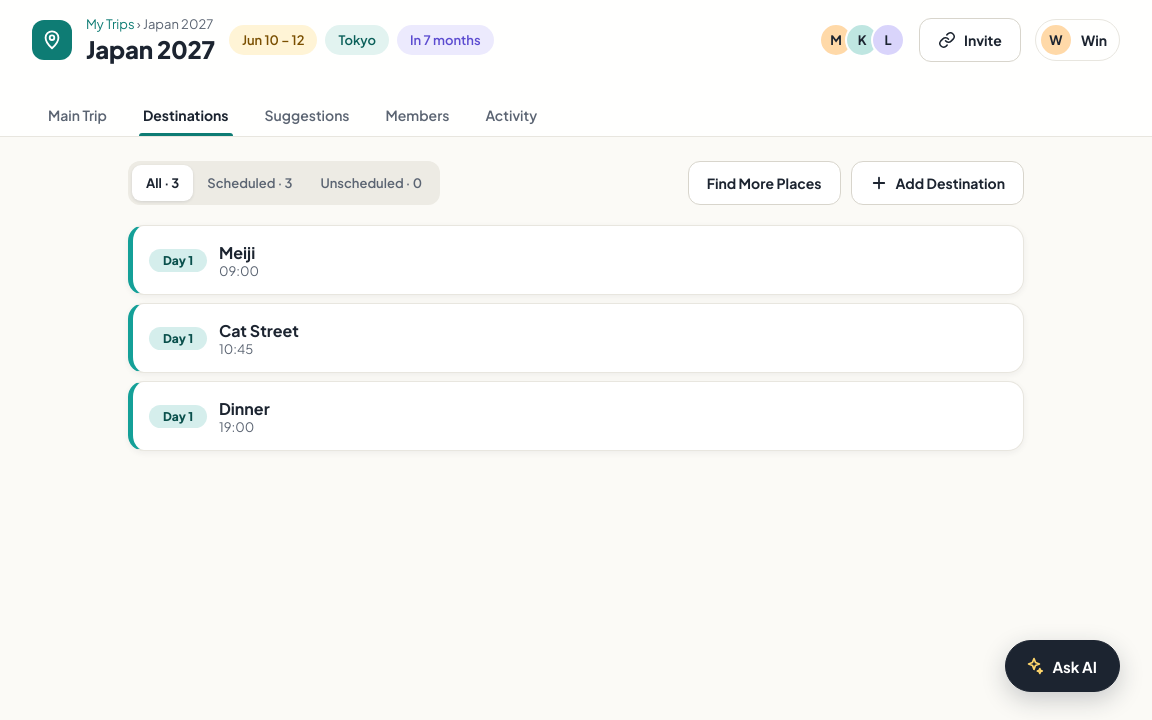
it: More like this from a place runs straight away; errors show
The width and height of the screenshot is (1152, 720).
Click the button "Cat Street 10:45 Day 1": (259, 330) [149,316,1007,360]
(page scrolled)
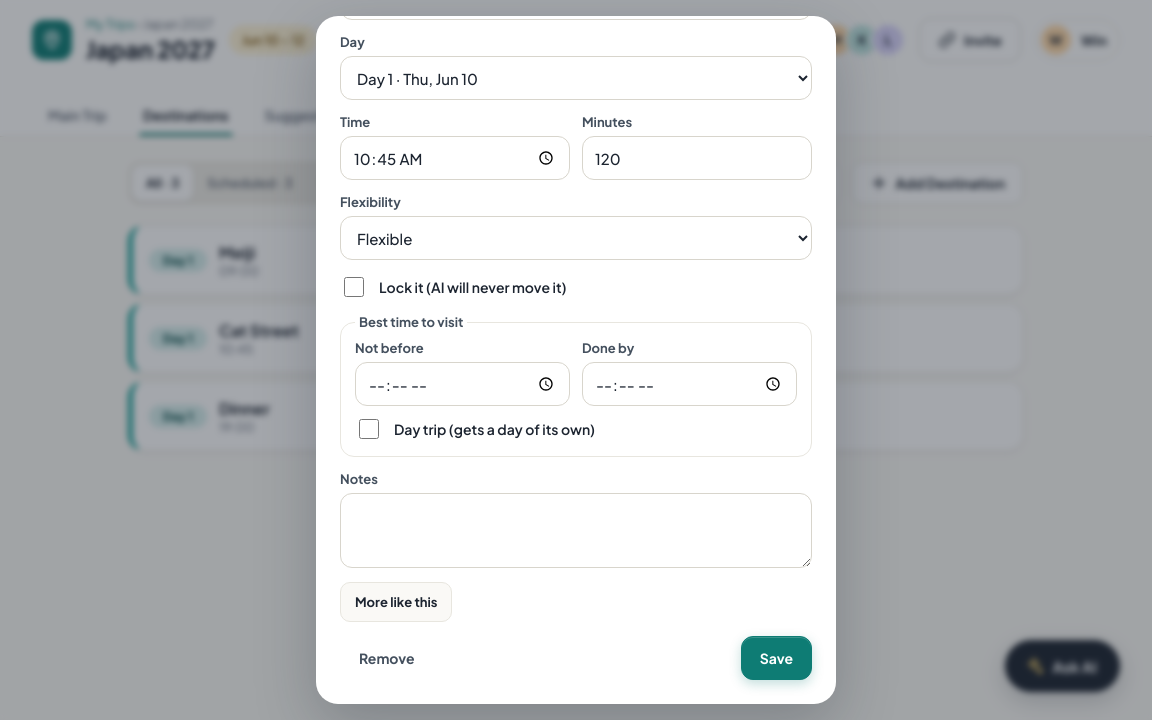
Click the button "More like this": (396, 602) [340,582,452,622]
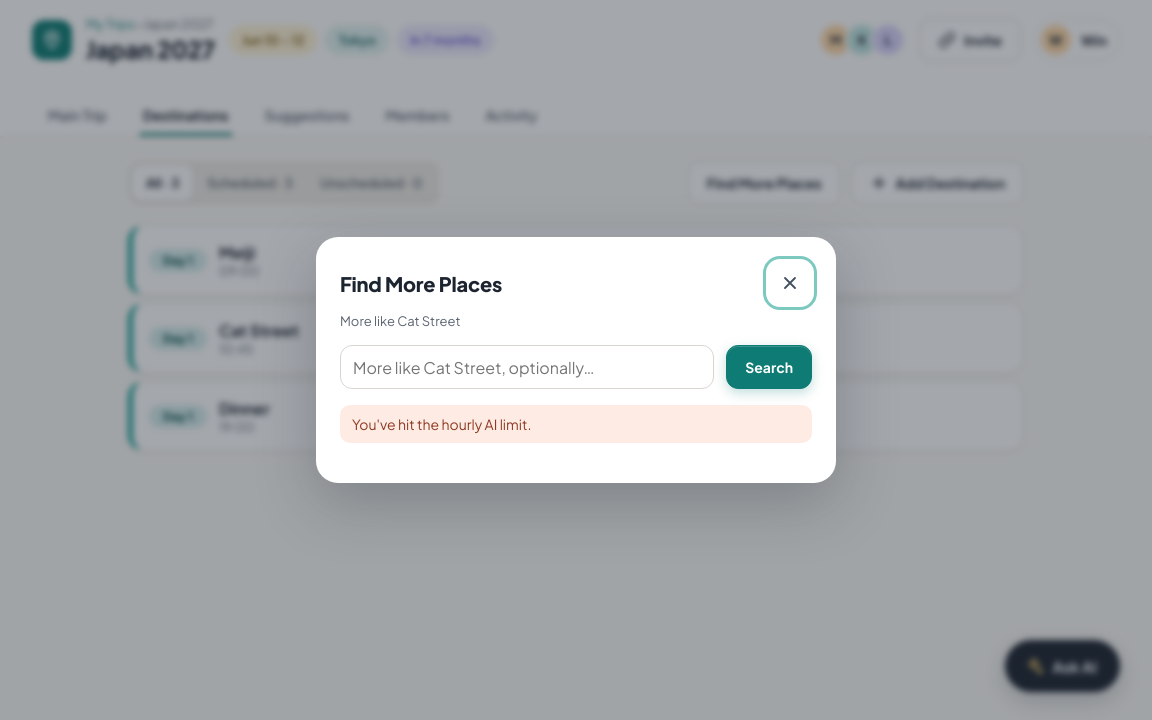
Now the text "More like Cat Street" is shown, box [340,313,461,329]
Now the message shows "hourly AI limit", box [352,415,531,433]
